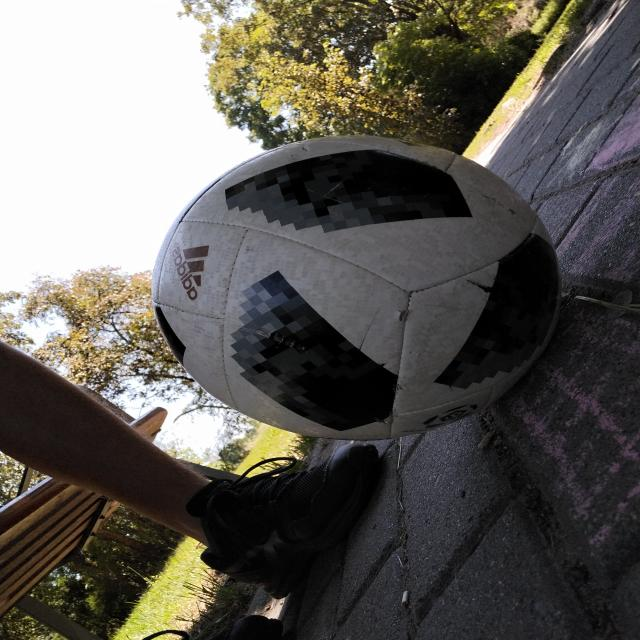nozna: (150, 134, 563, 442)
